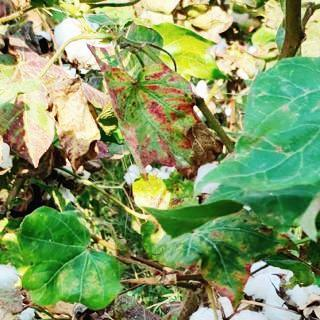blight: (95, 52, 240, 178), (1, 34, 114, 171), (140, 219, 307, 303)
